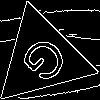G: (17, 33, 79, 94)
